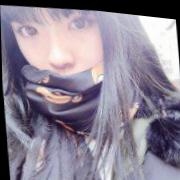WRONG: (11, 5, 121, 122)
